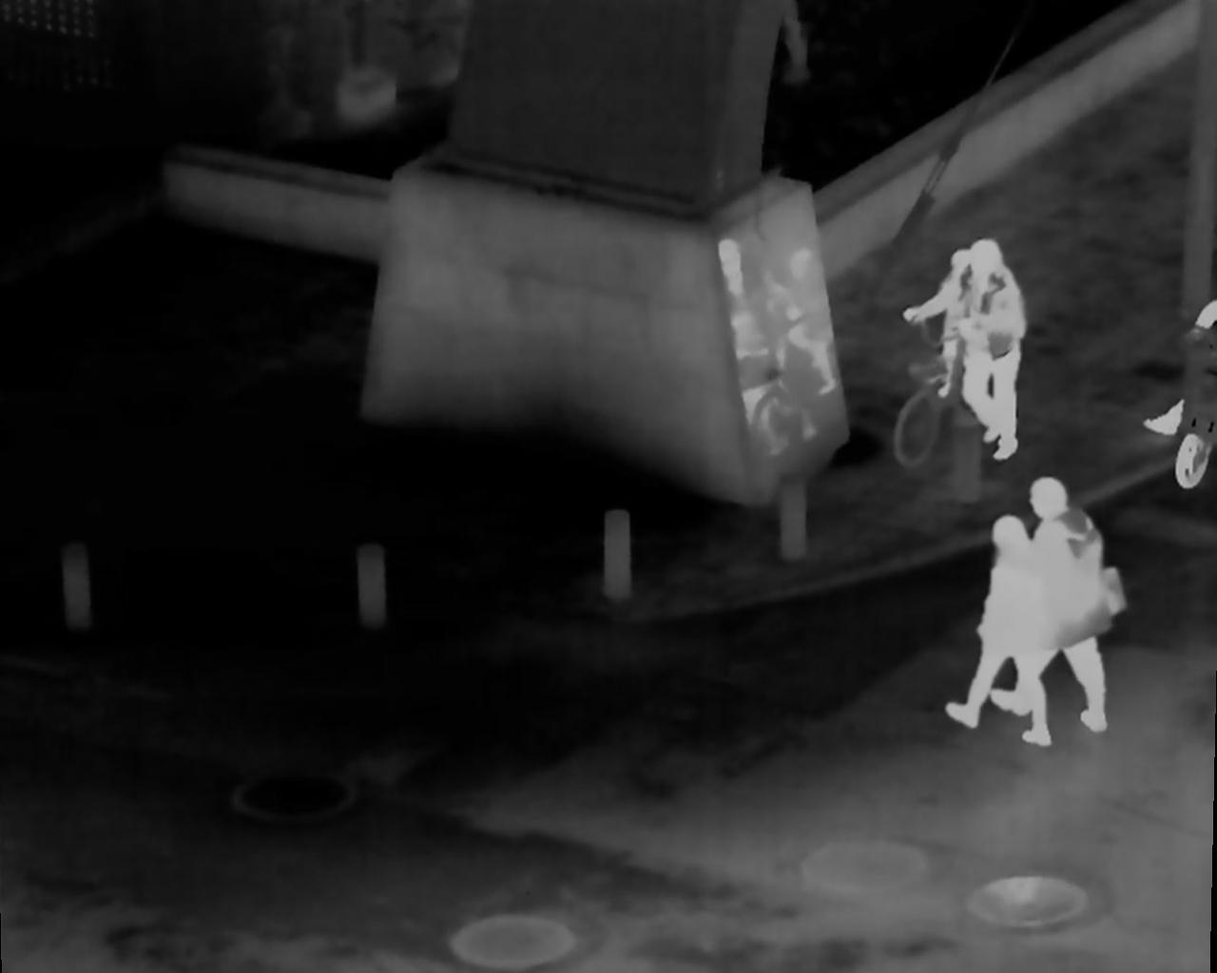person: (1025, 476, 1114, 768), (948, 517, 1052, 741), (954, 240, 1019, 455), (905, 250, 989, 402)
